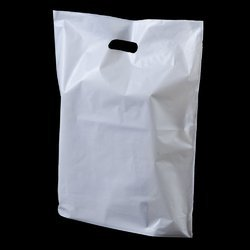Nonrec_Plastic: (41, 5, 209, 233)
